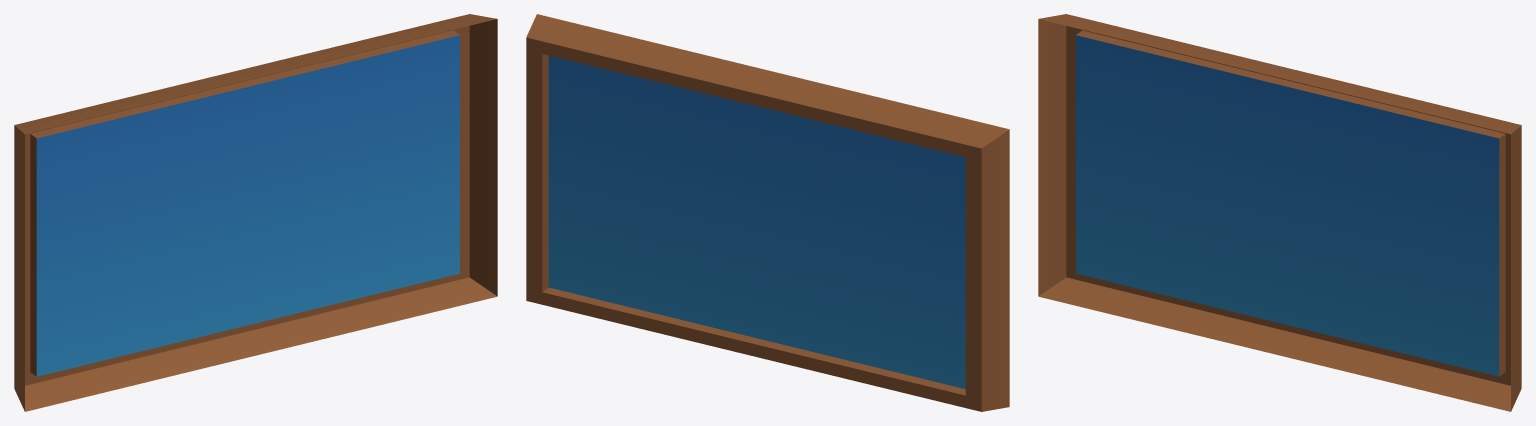
File: Window.FBX
3 views of the same model, side by side, from view 1: azimuth 30°, elevation 25°; view 2: azimuth 150°, elevation 25°; view 3: azimuth 330°, elevation 25° (orthographic).
Visible parts, largest first — view 1: Meur002; view 2: Meur002; view 3: Meur002.
Part boxes in pixels (box(x1,y1,x2,y2)): Meur002: box(14, 14, 497, 411); Meur002: box(526, 14, 1009, 411); Meur002: box(1038, 14, 1521, 411).
Size of the model in its own units: 200 by 112 by 14.23.
1 material, 1 textured.
